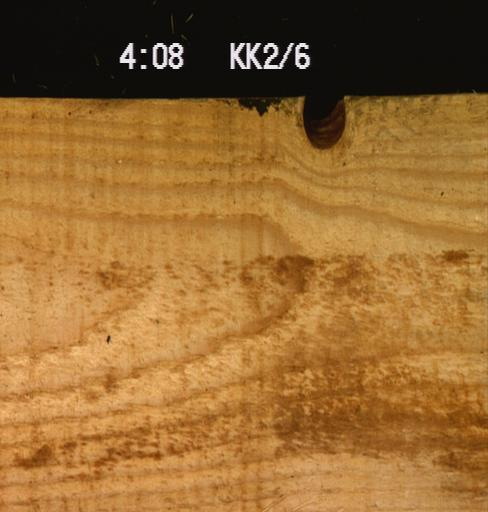wave: (219, 96, 297, 114)
